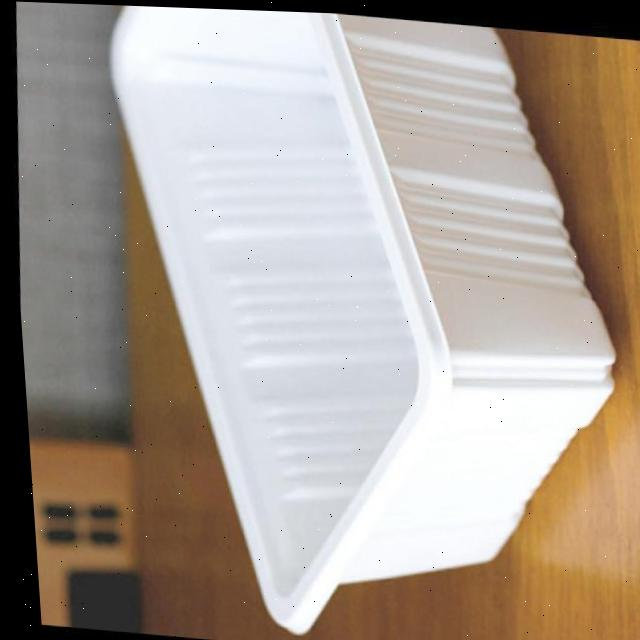disposable: (106, 3, 640, 640)
